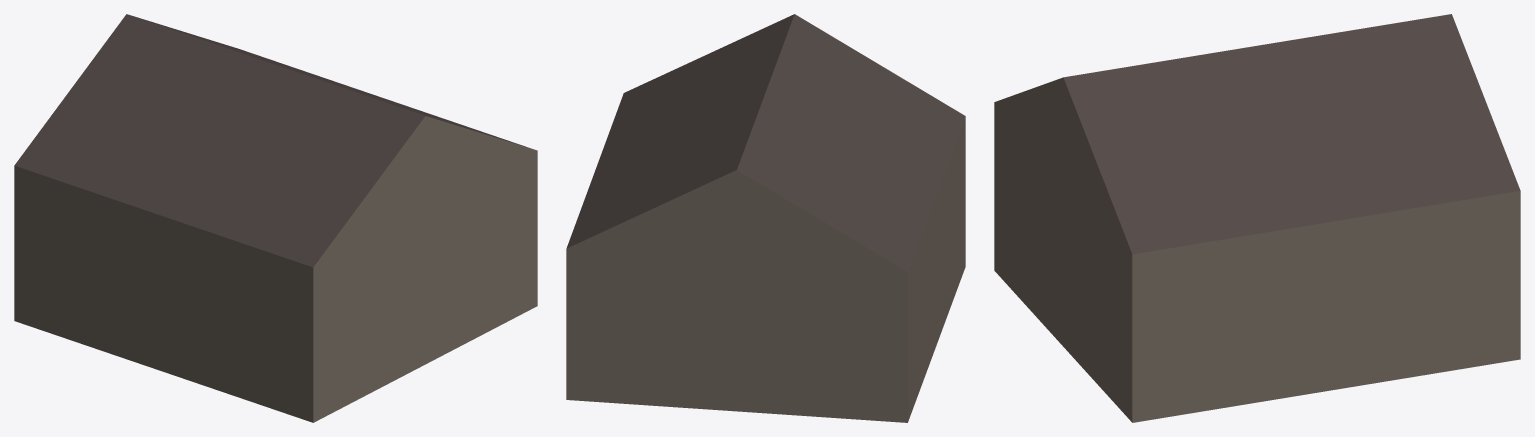
The picture shows the model from 3 angles, left to right: view 1: azimuth 30°, elevation 25°; view 2: azimuth 150°, elevation 25°; view 3: azimuth 270°, elevation 25°; orthographic projection. The views are drawn at different scales.
Parts seen in each view (by area): view 1: HP-w859082464; view 2: HP-w859082464; view 3: HP-w859082464.
Boxes of the visible parts, x1=… form: HP-w859082464: x1=14, y1=14, x2=537, y2=422; HP-w859082464: x1=566, y1=14, x2=965, y2=422; HP-w859082464: x1=994, y1=14, x2=1520, y2=422.
Bounding box in the file's own units: 16.47 × 9.6 × 16.99.
